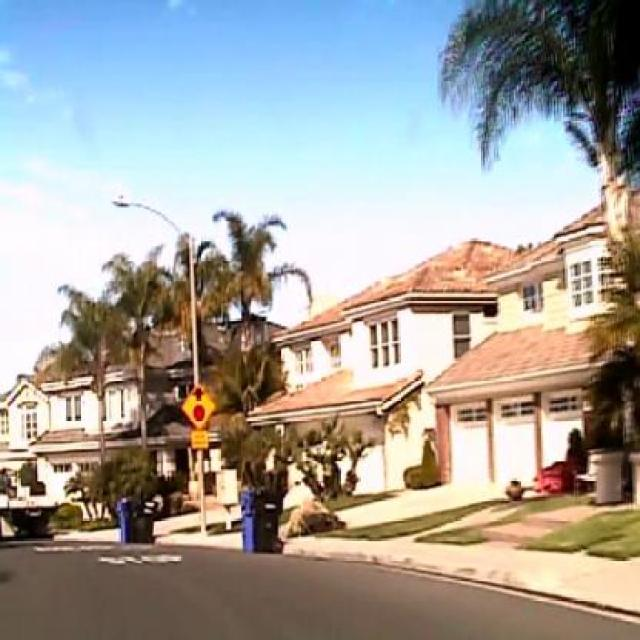stopAhead: (182, 382, 216, 429)
